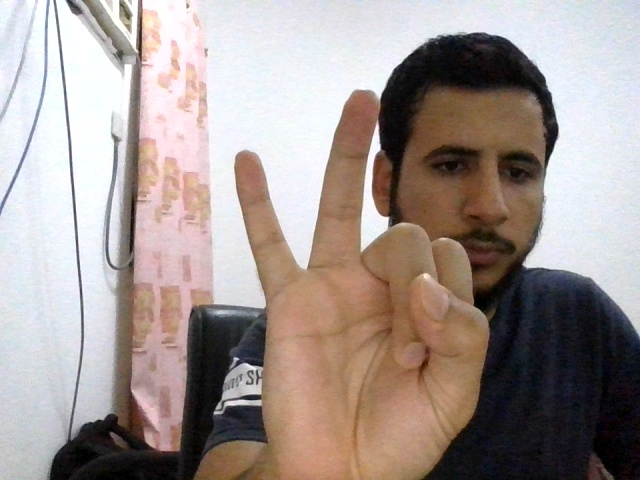Two: (234, 89, 486, 476)
